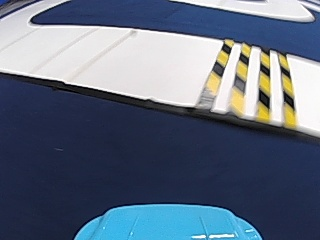bump: (191, 39, 300, 121)
